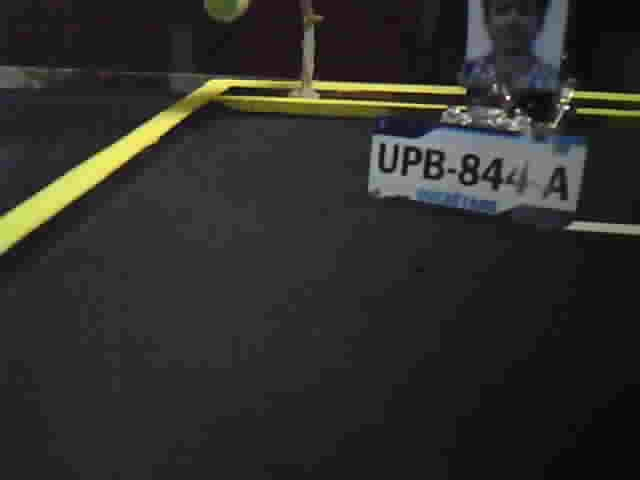PLACA: (365, 113, 590, 231)
ROSTRO: (470, 2, 558, 92)
